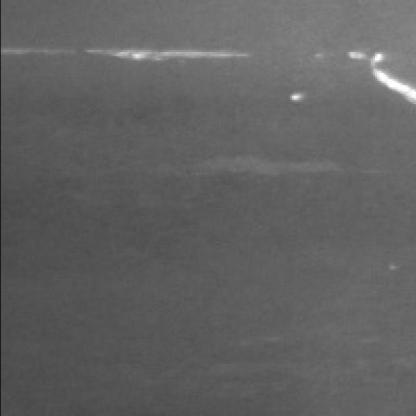scratches: (341, 52, 412, 110), (81, 46, 250, 70)
